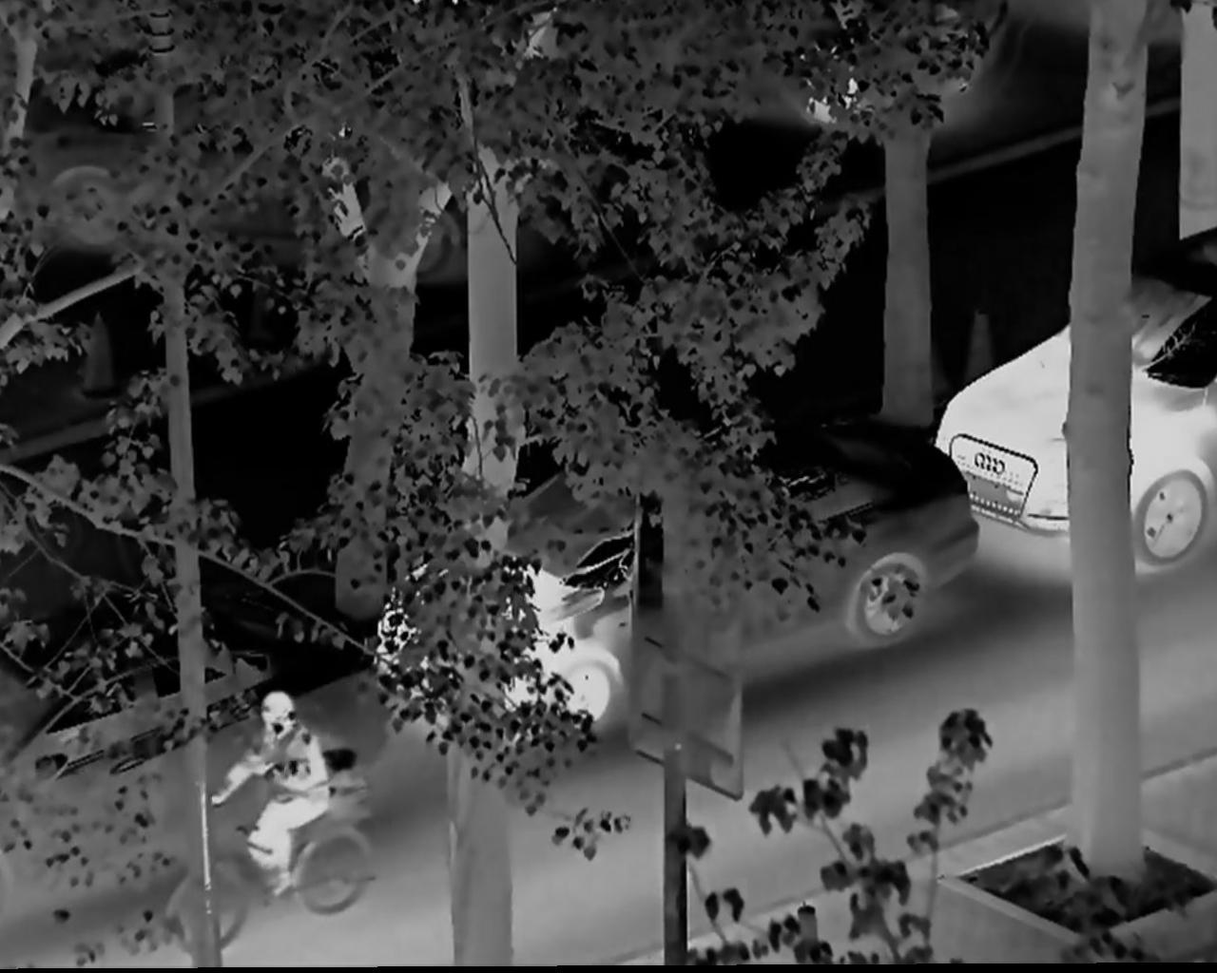person: (205, 684, 356, 914)
